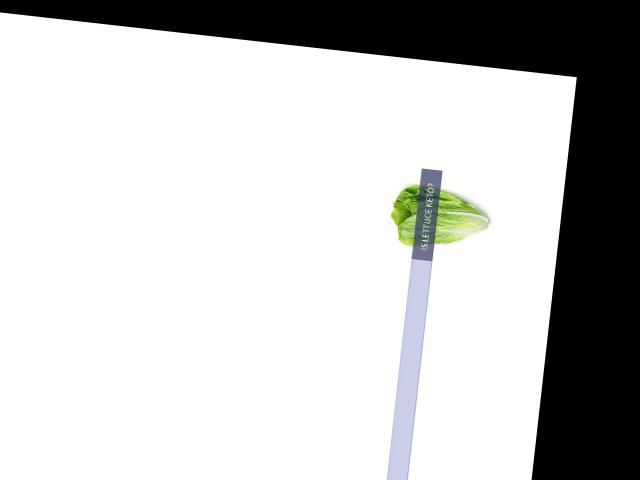lettuce: (388, 177, 502, 258)
